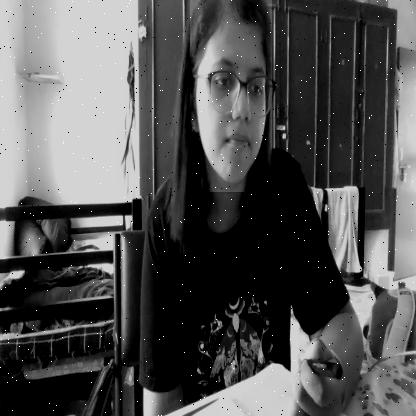Normal: (190, 0, 272, 192)
